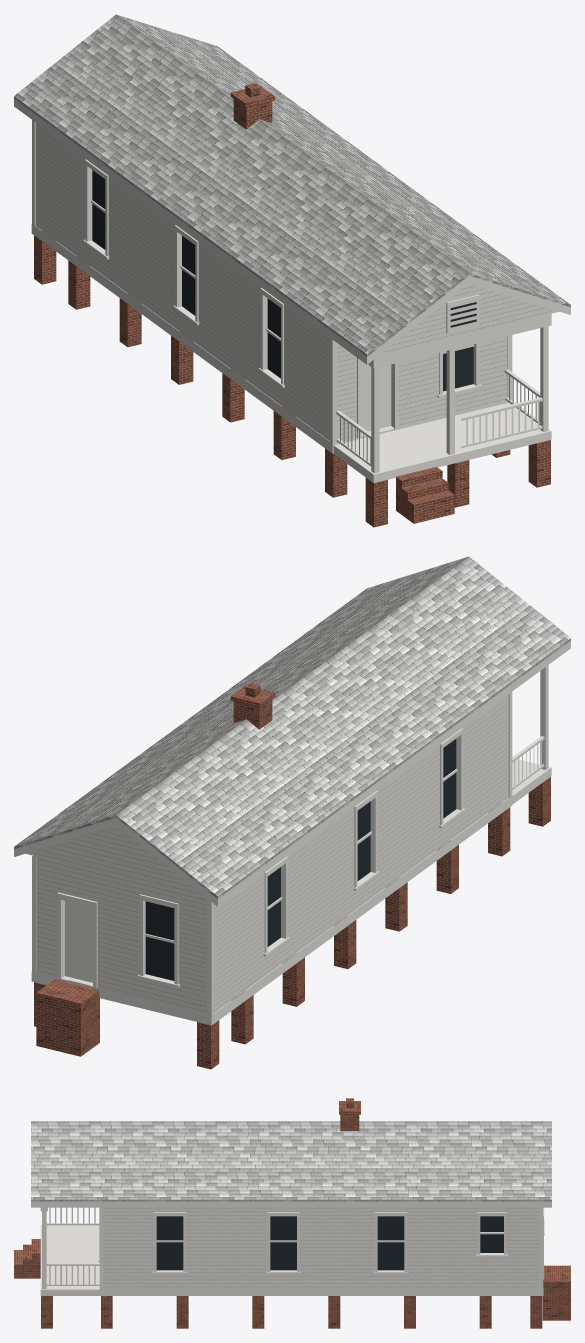
The model's file is house-shotgun.glb.
3 views of the same model, one above another, from view 1: azimuth 30°, elevation 25°; view 2: azimuth 150°, elevation 25°; view 3: azimuth 270°, elevation 25° (orthographic). The views are drawn at different scales.
Parts seen in each view (by area): view 1: House; view 2: House; view 3: House.
Part boxes in pixels (x1=…): House: x1=14, y1=14, x2=570, y2=527; House: x1=14, y1=556, x2=570, y2=1069; House: x1=14, y1=1098, x2=570, y2=1328.
Bounding box in the file's own units: 5.5 × 6.87 × 17.64.
6 materials, 3 textured.
